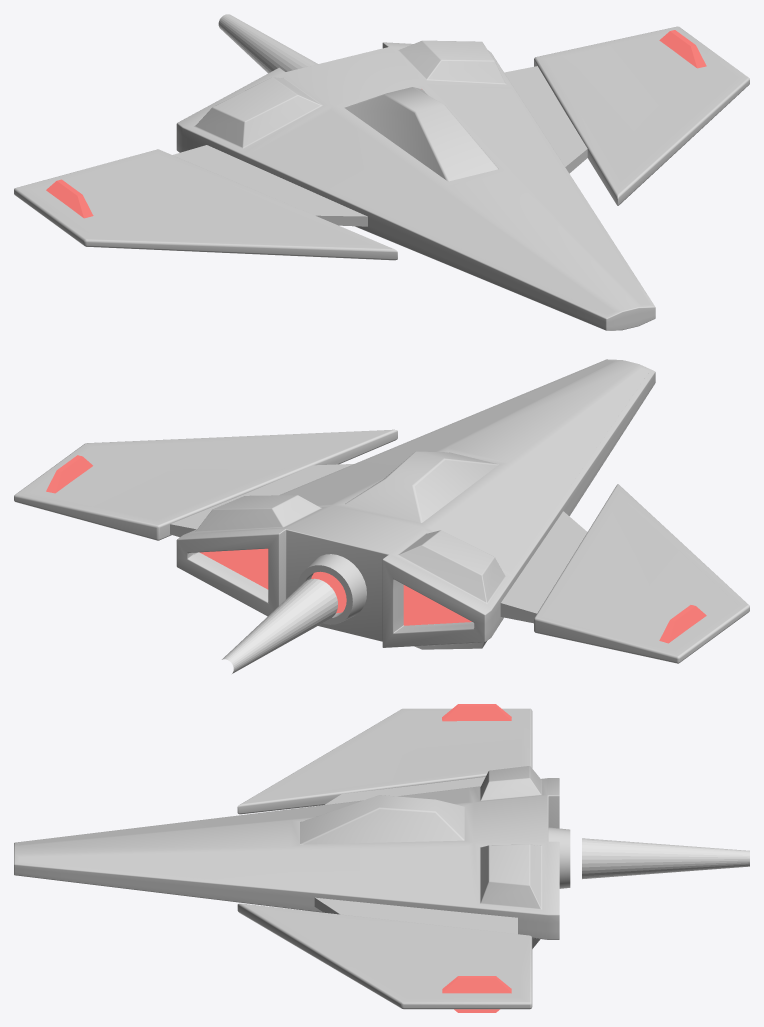
The model's file is spaceship-d4-joined-transformed.glb.
3 views of the same model, one above another, from view 1: azimuth 30°, elevation 25°; view 2: azimuth 150°, elevation 25°; view 3: azimuth 270°, elevation 25° (orthographic). The views are drawn at different scales.
Parts seen in each view (by area): view 1: body, boostEmission, emissives; view 2: body, emissives, boostEmission; view 3: body, boostEmission, emissives.
Part boxes in pixels (<box>): body: <box>14,26,749,330</box>; boostEmission: <box>218,14,317,73</box>; emissives: <box>46,30,706,218</box>; body: <box>14,359,749,663</box>; emissives: <box>46,455,706,643</box>; boostEmission: <box>222,578,337,673</box>; body: <box>14,708,570,1009</box>; boostEmission: <box>582,838,749,879</box>; emissives: <box>442,704,511,1012</box>.
Bounding box in the file's own units: 9.48 × 1.58 × 9.99.
